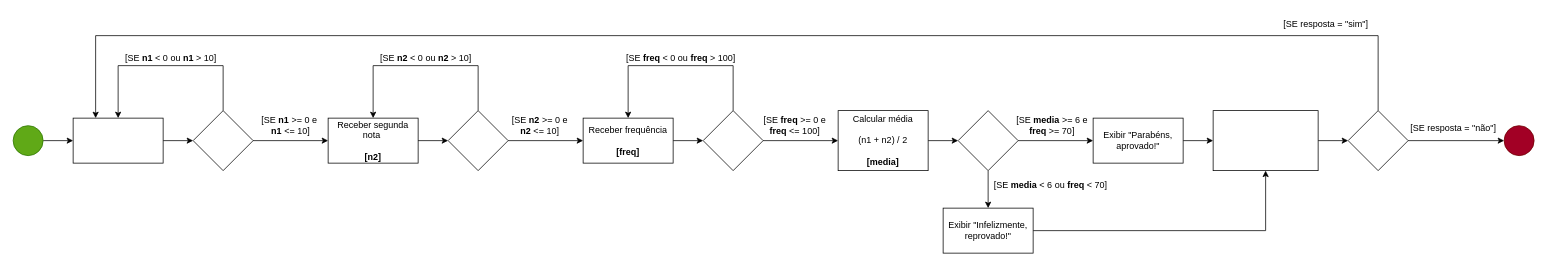
This 1547x266 diagram has some shape labels left out. The box of each missing label's shape, as (x1, y1, x2, y2) in pixels:
Receber primeira nota [n1]: (72, 117, 163, 163)
Receber resposta se o usuário deseja cadastrar um novo aluno [resposta]: (1212, 110, 1318, 171)
